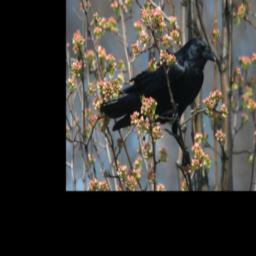Crow: (102, 34, 220, 164)
